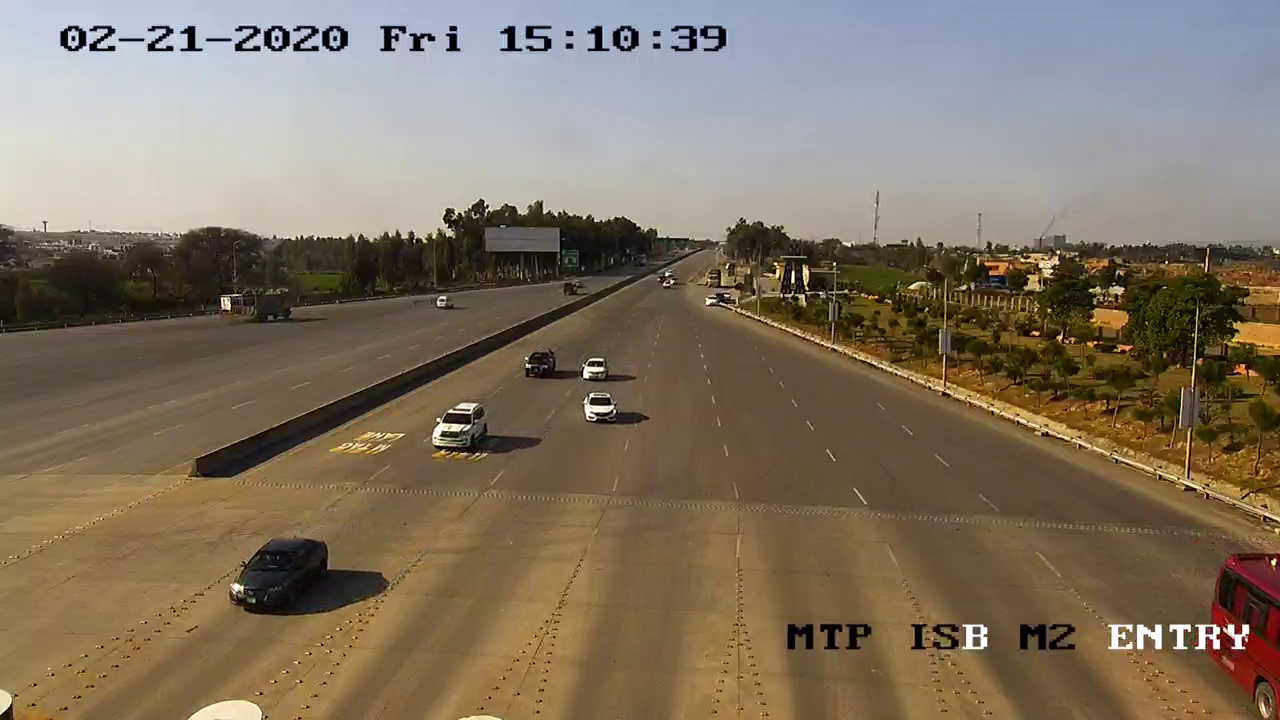f1: (226, 523, 339, 619), (427, 396, 492, 460), (581, 387, 621, 429)
